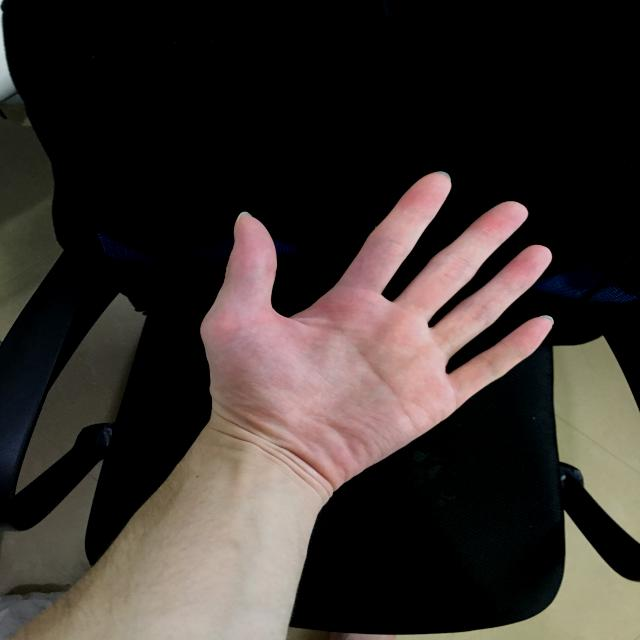no_glove: (158, 152, 578, 518)
